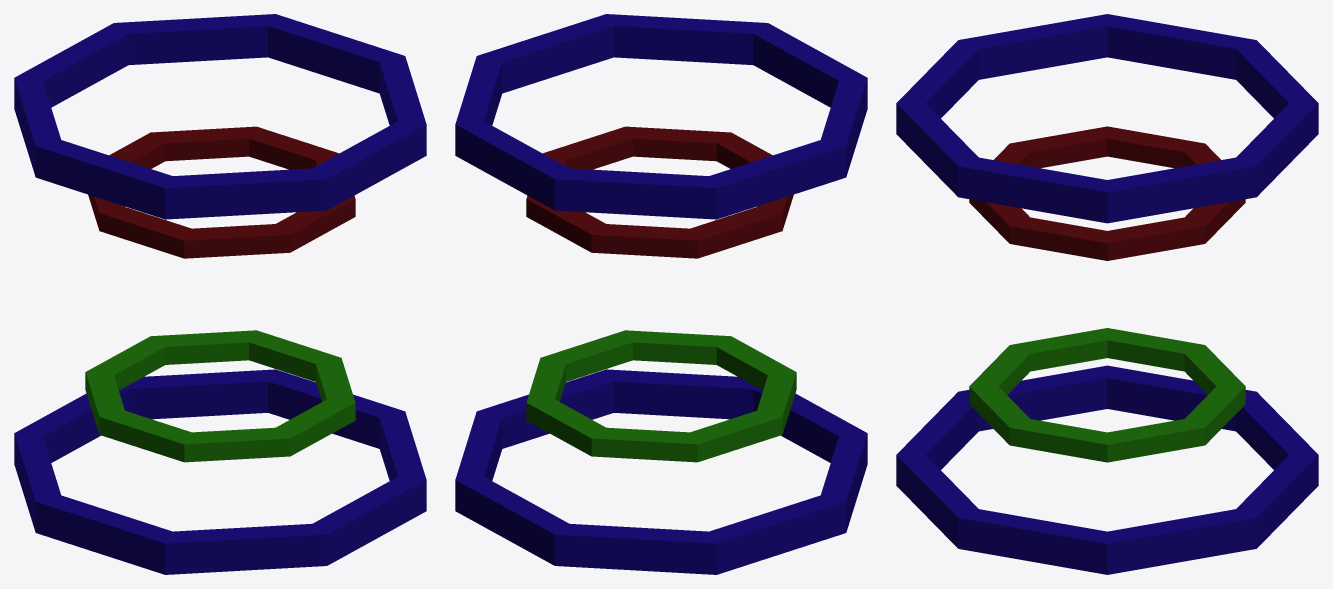
The model's file is 12_Rings.fbx.
3 renders of one model, left to right at view 1: azimuth 30°, elevation 25°; view 2: azimuth 150°, elevation 25°; view 3: azimuth 270°, elevation 25°, orthographic.
Visible parts, largest first — view 1: Rings; view 2: Rings; view 3: Rings.
Part boxes in pixels (x1,y1,x2,y2): Rings: [14, 14, 426, 574]; Rings: [455, 14, 867, 574]; Rings: [896, 14, 1318, 574].
Bounding box in the file's own units: 100 × 100 × 100.
